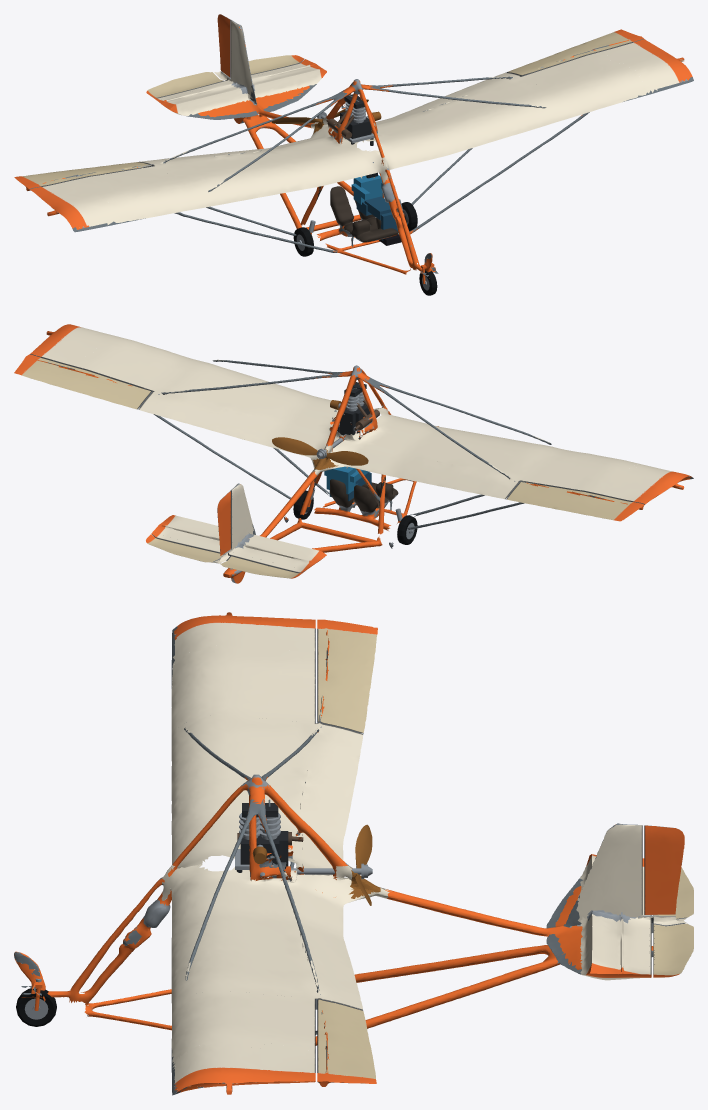
The model's file is aerofox_kestrel2.glb.
3 views of the same model, one above another, from view 1: azimuth 30°, elevation 25°; view 2: azimuth 150°, elevation 25°; view 3: azimuth 270°, elevation 25° (orthographic). The views are drawn at different scales.
Parts seen in each view (by area): view 1: wing_panel_L, wing_panel_R, a0_body, wingtip_R, cables_R, wingtip_L, cables_L, horizontal_tail_R, horizontal_tail_L, elevator, aileron_L, pilot (+5 smaller); view 2: wing_panel_L, wing_panel_R, a0_body, aileron_L, aileron_R, horizontal_tail_R, wingtip_R, wingtip_L, cables_R, horizontal_tail_L, elevator, cables_L (+6 smaller); view 3: wing_panel_R, wing_panel_L, a0_body, aileron_R, wingtip_L, vertical_tail, wingtip_R, horizontal_tail_L, aileron_L, rudder, cables_L, elevator (+4 smaller).
Boxes of the visible parts, <box> form: wing_panel_L: <box>314,51,649,177</box>; wing_panel_R: <box>74,116,387,222</box>; a0_body: <box>50,20,690,278</box>; wingtip_R: <box>30,180,120,228</box>; cables_R: <box>72,85,432,276</box>; wingtip_L: <box>603,39,692,93</box>; cables_L: <box>256,76,693,273</box>; horizontal_tail_R: <box>152,72,250,115</box>; horizontal_tail_L: <box>218,59,326,97</box>; elevator: <box>146,55,304,97</box>; aileron_L: <box>507,29,644,76</box>; pilot: <box>351,172,401,245</box>; wing_panel_L: <box>71,335,382,473</box>; wing_panel_R: <box>315,405,641,499</box>; a0_body: <box>30,333,689,583</box>; aileron_L: <box>14,354,152,409</box>; aileron_R: <box>506,481,644,521</box>; horizontal_tail_R: <box>218,534,326,572</box>; wingtip_R: <box>602,464,691,504</box>; wingtip_L: <box>30,324,113,365</box>; cables_R: <box>231,377,693,578</box>; horizontal_tail_L: <box>151,515,227,563</box>; elevator: <box>146,534,303,578</box>; cables_L: <box>153,360,354,572</box>; wing_panel_R: <box>161,645,387,893</box>; wing_panel_L: <box>161,864,389,1062</box>; a0_body: <box>14,614,685,1094</box>; aileron_R: <box>317,619,377,733</box>; wingtip_L: <box>172,1043,315,1094</box>; vertical_tail: <box>576,824,675,922</box>; wingtip_R: <box>172,612,315,667</box>; horizontal_tail_L: <box>580,914,685,980</box>; aileron_L: <box>317,999,376,1086</box>; rudder: <box>644,825,684,914</box>; cables_L: <box>22,799,653,1095</box>; elevator: <box>653,867,693,977</box>.
Size of the model in its own units: 1.9 by 0.4684 by 1.14.
Materials: 10 (1 with a texture image).
